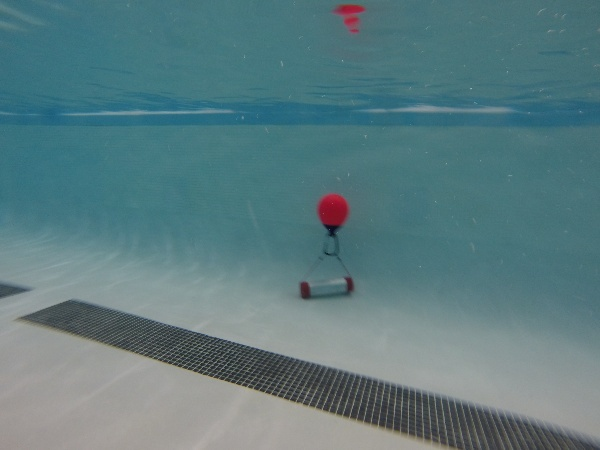buoy_red: (314, 190, 352, 238)
